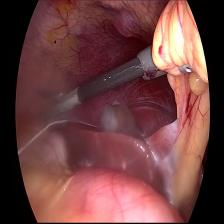Grasper: (32, 82, 82, 119)
Specimen Bag: (100, 100, 144, 142)
